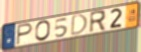2: (109, 8, 123, 30)
5: (54, 16, 69, 38)
D: (70, 13, 89, 38)
O: (34, 20, 52, 42)
P: (15, 22, 34, 47)
R: (88, 9, 107, 34)
